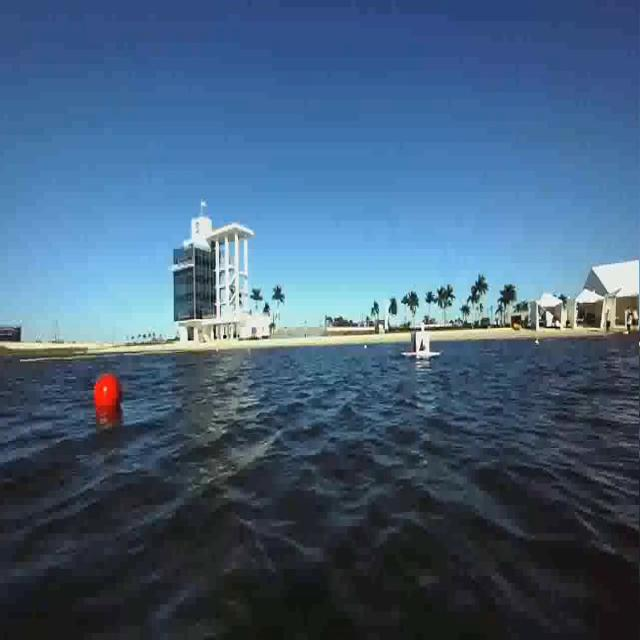red-buoy: (95, 374, 121, 412)
